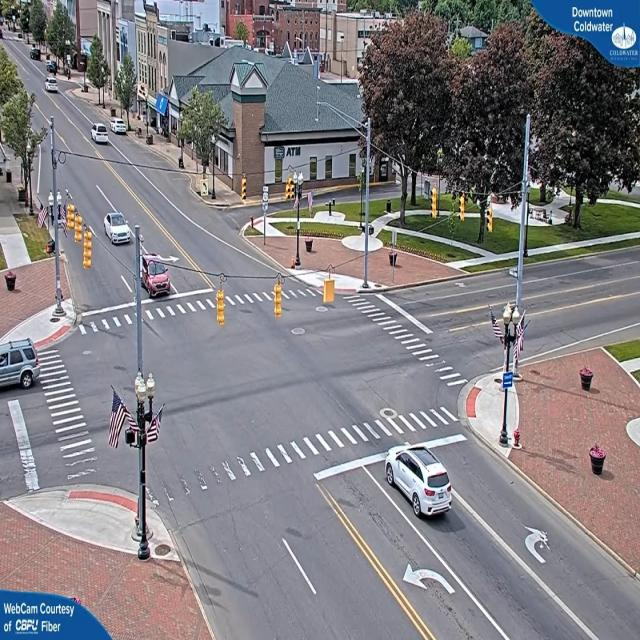car: (386, 444, 453, 520), (1, 341, 40, 393), (140, 255, 172, 295), (104, 213, 132, 245), (92, 123, 109, 145)
